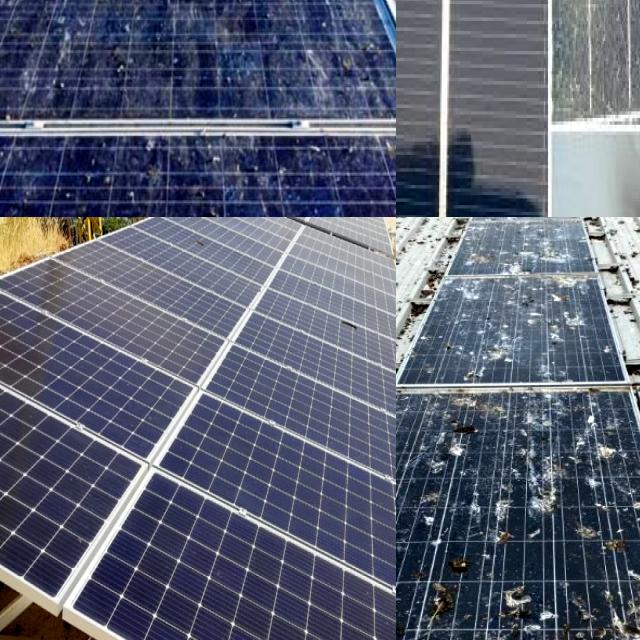bird: (505, 472, 640, 556), (477, 392, 608, 456), (494, 568, 606, 640), (404, 539, 481, 627), (472, 310, 584, 368), (396, 566, 448, 640), (24, 0, 75, 69), (396, 421, 428, 528), (109, 46, 176, 92), (396, 396, 436, 468), (249, 0, 373, 23), (396, 573, 425, 640), (0, 197, 25, 217)
crack: (39, 448, 396, 640), (158, 377, 396, 640), (0, 233, 247, 402), (0, 272, 220, 456), (198, 323, 396, 514), (201, 277, 396, 447), (60, 217, 248, 368), (103, 217, 282, 347), (251, 265, 396, 415)
shadow: (396, 0, 433, 173)
